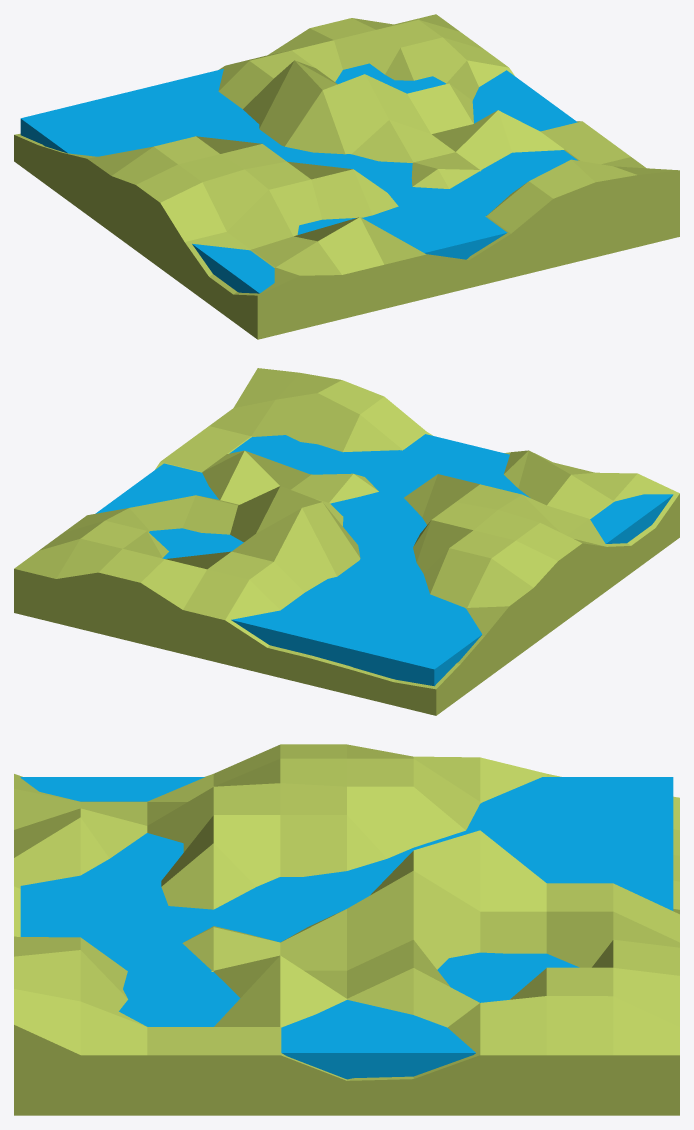
File: SpielfeldAnimated.glb
3 views of the same model, one above another, from view 1: azimuth 30°, elevation 25°; view 2: azimuth 150°, elevation 25°; view 3: azimuth 270°, elevation 25° (orthographic). The views are drawn at different scales.
Parts seen in each view (by area): view 1: Spielfeld; view 2: Spielfeld; view 3: Spielfeld.
Boxes of the visible parts, left/top/right/bottom form: Spielfeld: left=14, top=14, right=679, bottom=339; Spielfeld: left=14, top=368, right=679, bottom=715; Spielfeld: left=14, top=744, right=679, bottom=1115.
Size of the model in its own units: 40 by 9.66 by 40.
